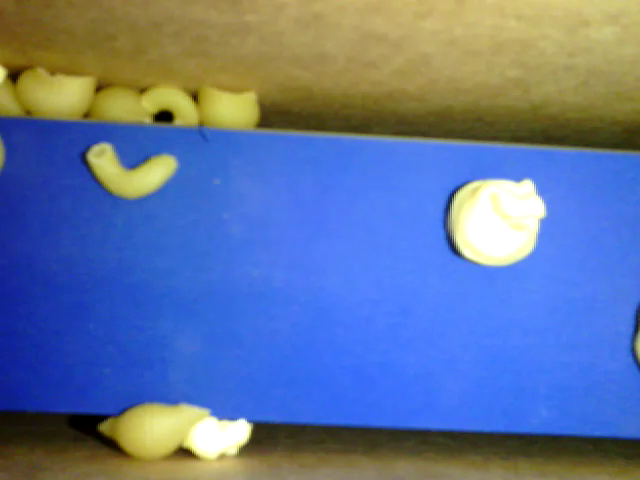elbow: (89, 144, 176, 200), (141, 82, 201, 127)
shell: (97, 401, 212, 459), (14, 66, 95, 120), (198, 80, 258, 129), (87, 81, 153, 124)
tortellini: (443, 175, 550, 270)
